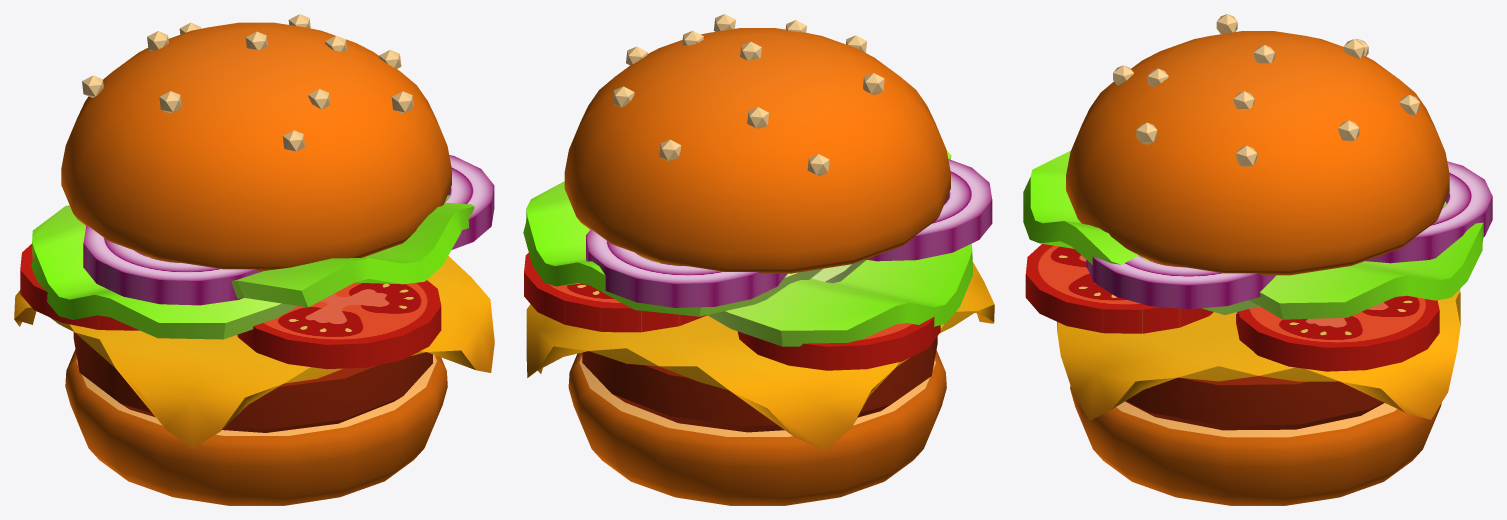
File: Burger_01.fbx
3 renders of one model, left to right at view 1: azimuth 30°, elevation 25°; view 2: azimuth 150°, elevation 25°; view 3: azimuth 270°, elevation 25°, orthographic.
Parts seen in each view (by area): view 1: Burger_01_Bun, Burger_01, Burger_01_Lettuce, Burger_01_Cheese, Burger_01_Tomato, Burger_01_Patty, Burger_01_Onion; view 2: Burger_01_Bun, Burger_01, Burger_01_Lettuce, Burger_01_Cheese, Burger_01_Onion, Burger_01_Tomato, Burger_01_Patty; view 3: Burger_01_Bun, Burger_01, Burger_01_Cheese, Burger_01_Tomato, Burger_01_Lettuce, Burger_01_Onion, Burger_01_Patty.
Part boxes in pixels (x1,y1,x2,y2): Burger_01_Bun: (61,14,451,270); Burger_01: (65,349,447,505); Burger_01_Lettuce: (31,195,474,339); Burger_01_Cheese: (14,256,494,448); Burger_01_Tomato: (20,244,441,369); Burger_01_Patty: (73,332,432,432); Burger_01_Onion: (83,155,494,305); Burger_01_Bun: (564,14,950,273); Burger_01: (568,350,946,505); Burger_01_Lettuce: (523,150,972,346); Burger_01_Cheese: (526,262,994,450); Burger_01_Onion: (586,159,992,307); Burger_01_Tomato: (524,253,940,370); Burger_01_Patty: (582,336,937,432); Burger_01_Bun: (1066,14,1449,275); Burger_01: (1070,385,1441,505); Burger_01_Cheese: (1057,289,1460,420); Burger_01_Tomato: (1025,244,1439,371); Burger_01_Lettuce: (1023,150,1483,319); Burger_01_Onion: (1086,161,1492,309); Burger_01_Patty: (1125,376,1384,430).
Bounding box in the file's own units: 67.38 × 67.63 × 72.09.
